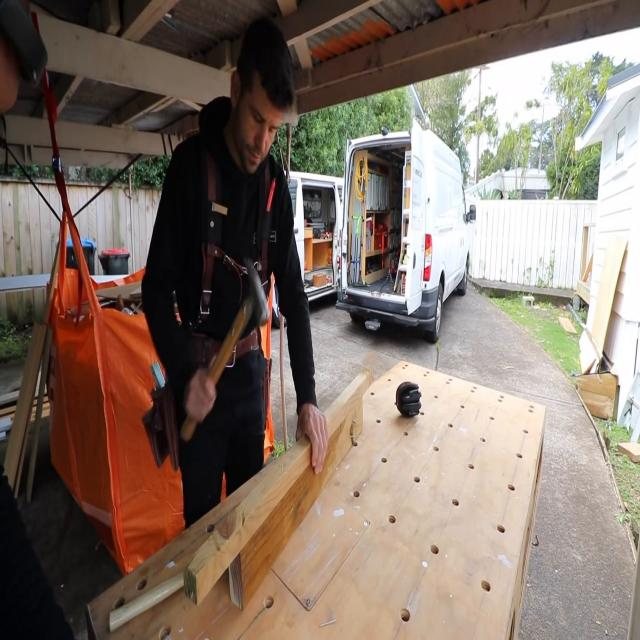hammer: (183, 258, 269, 440)
